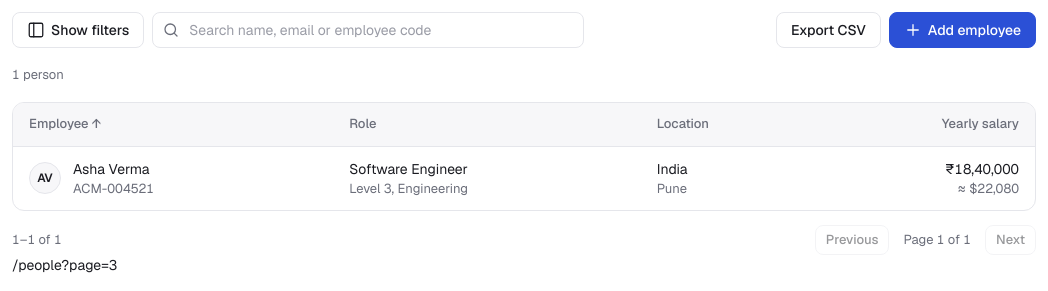
Scenario: People › searches after typing pauses and resets to page 1
Expected: the text "Asha Verma" is shown, [73,159,154,180]
In the search field with placeholder "Search name, email or employee code": (368, 30) [152,12,584,48], type "asha"
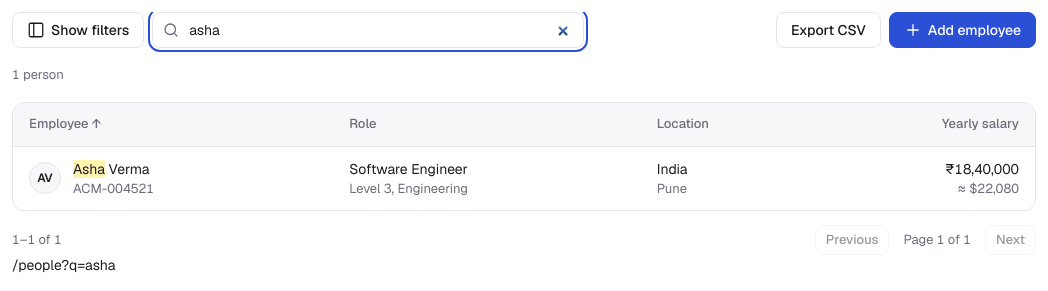
Now the text with test id "location" reads "/people?q=asha", box [12,256,116,274]
